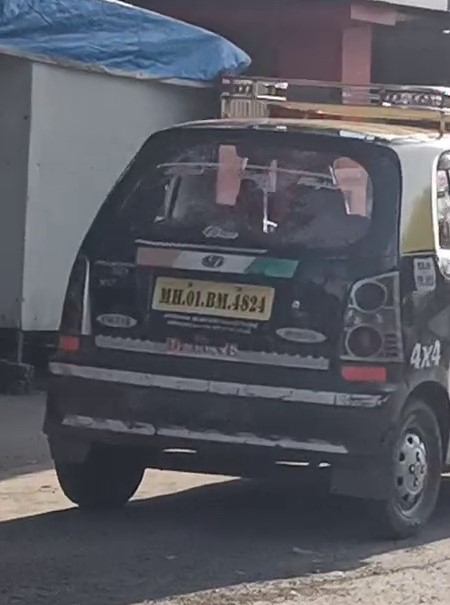MH01BM4824: (151, 276, 275, 320)
